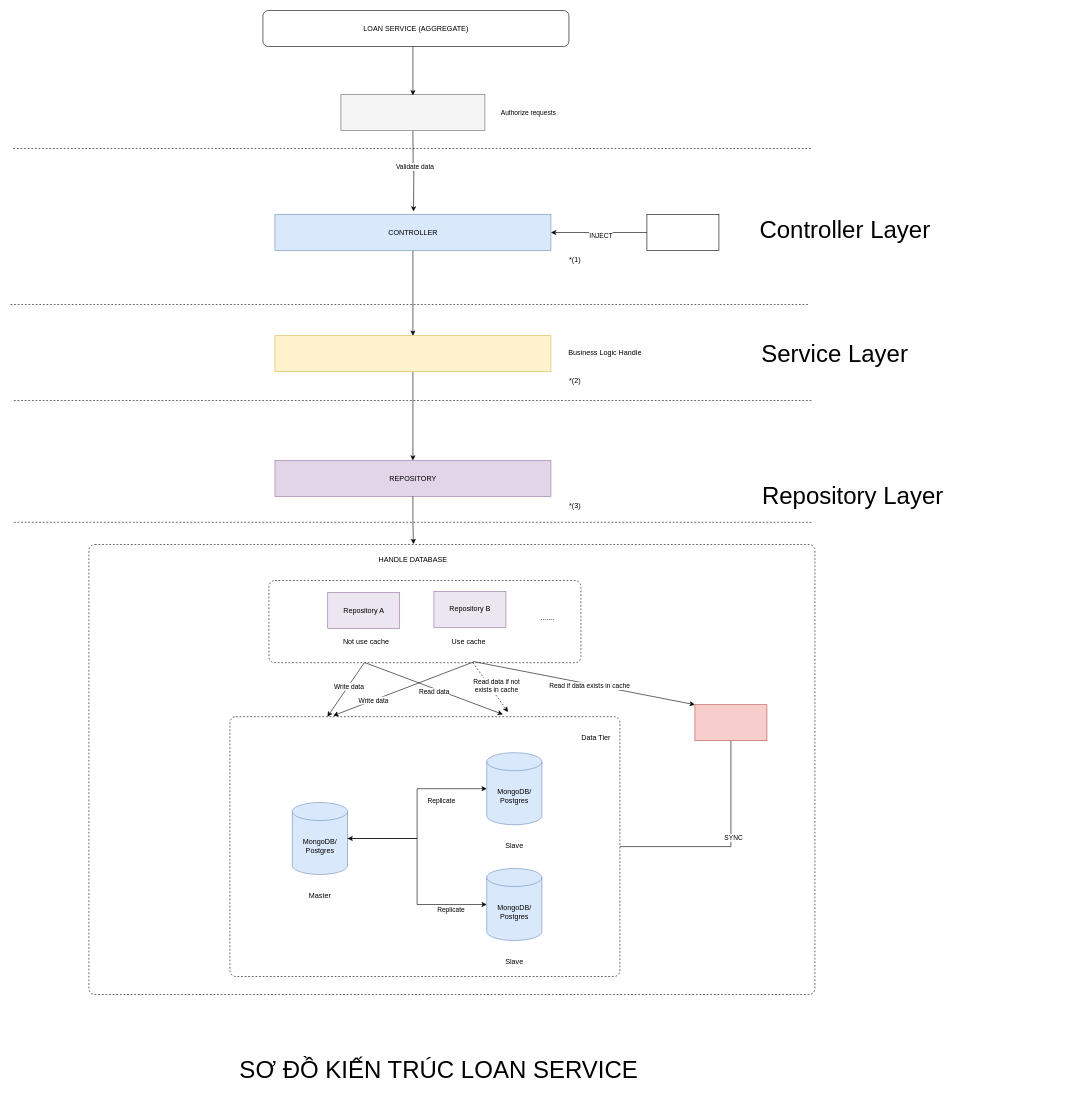
The diagram is 1081 pixels wide and 1094 high, and some of its shapes have lost their labels. Each missing label, with the box of its shape:
Authorization Middleware: (340, 94, 485, 130)
REDIS: (694, 704, 767, 741)
SERVICE: (274, 335, 551, 372)
Validate Data Module: (646, 214, 719, 250)
